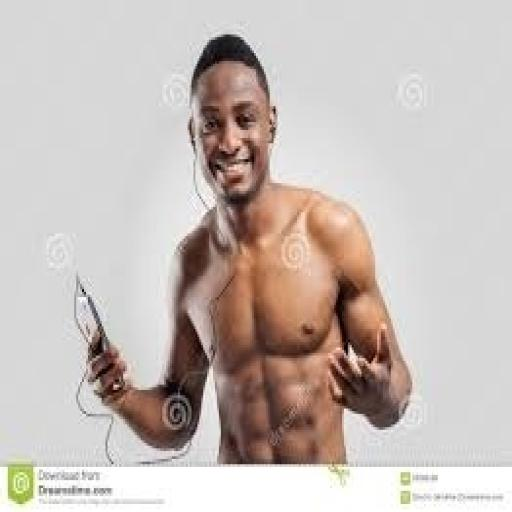listening_to_music: (82, 29, 414, 467)
